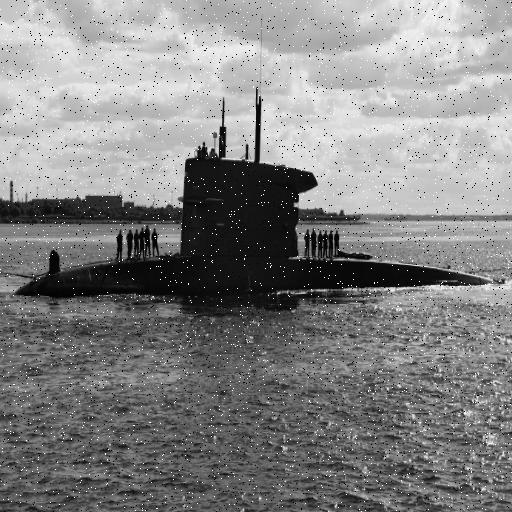submarine: (15, 156, 496, 299)
